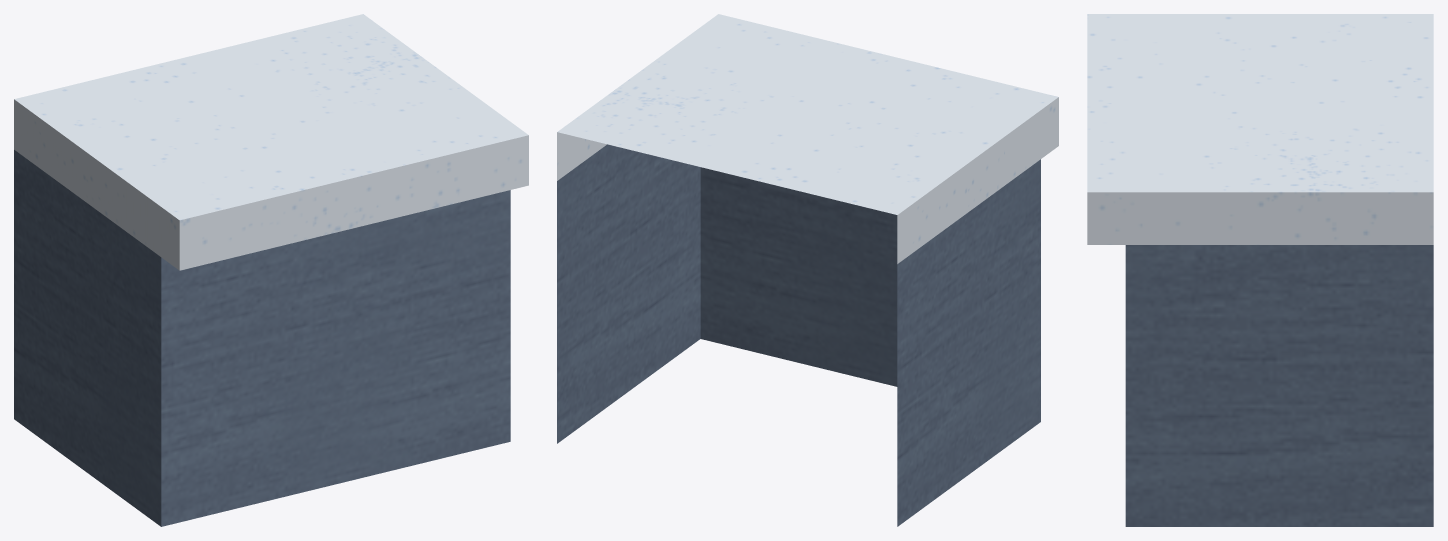
The model's file is counter.fbx.
3 renders of one model, left to right at view 1: azimuth 30°, elevation 25°; view 2: azimuth 150°, elevation 25°; view 3: azimuth 270°, elevation 25°, orthographic. The views are drawn at different scales.
Visible parts, largest first — view 1: counter; view 2: counter; view 3: counter.
Part boxes in pixels (x1,y1,x2,y2): counter: (14, 14, 528, 526); counter: (557, 14, 1058, 526); counter: (1087, 14, 1433, 526).
Bounding box in the file's own units: 166 × 145 × 136.
